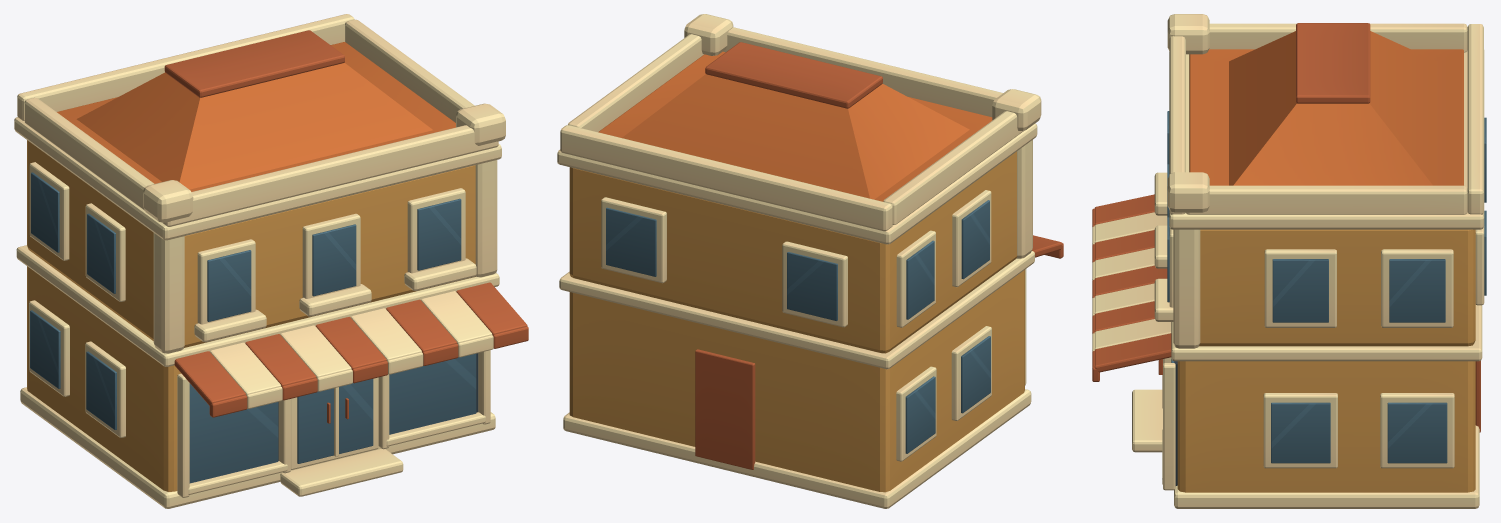
File: 03B-market-blender.glb
3 views of the same model, side by side, from view 1: azimuth 30°, elevation 25°; view 2: azimuth 150°, elevation 25°; view 3: azimuth 270°, elevation 25° (orthographic). The views are drawn at different scales.
Parts seen in each view (by area): view 1: 03B Honey Corners; view 2: 03B Honey Corners; view 3: 03B Honey Corners.
Boxes of the visible parts, bbox=[...] form: 03B Honey Corners: bbox=[14, 14, 528, 508]; 03B Honey Corners: bbox=[557, 14, 1063, 508]; 03B Honey Corners: bbox=[1092, 14, 1486, 508].
Bounding box in the file's own units: 6.43 × 6.26 × 6.09.
Materials: 6 (6 with a texture image).
